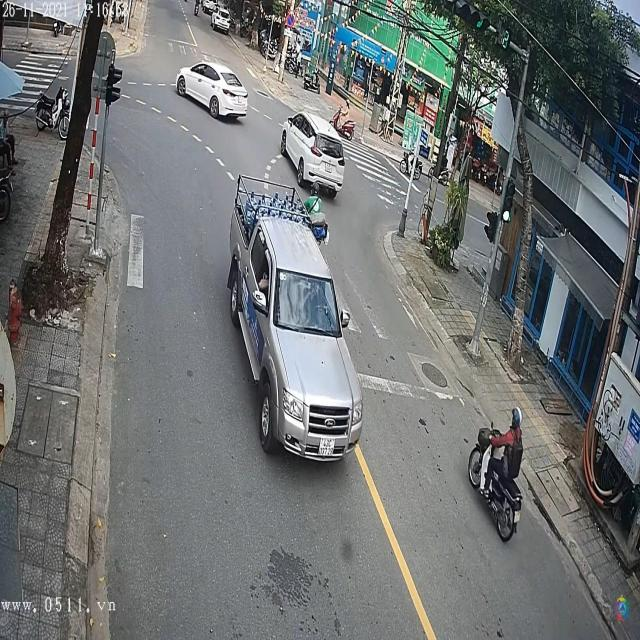car: (228, 174, 364, 458), (279, 113, 347, 199), (174, 61, 251, 123)
motorcycle: (466, 417, 525, 547)
